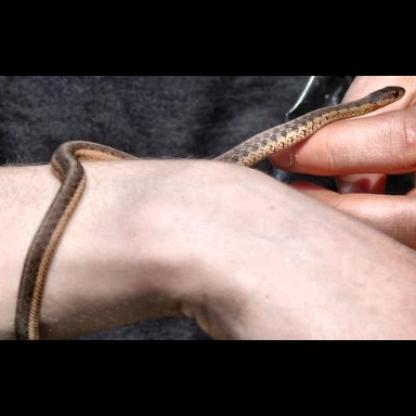Snake: (207, 78, 416, 167), (14, 144, 100, 341)
